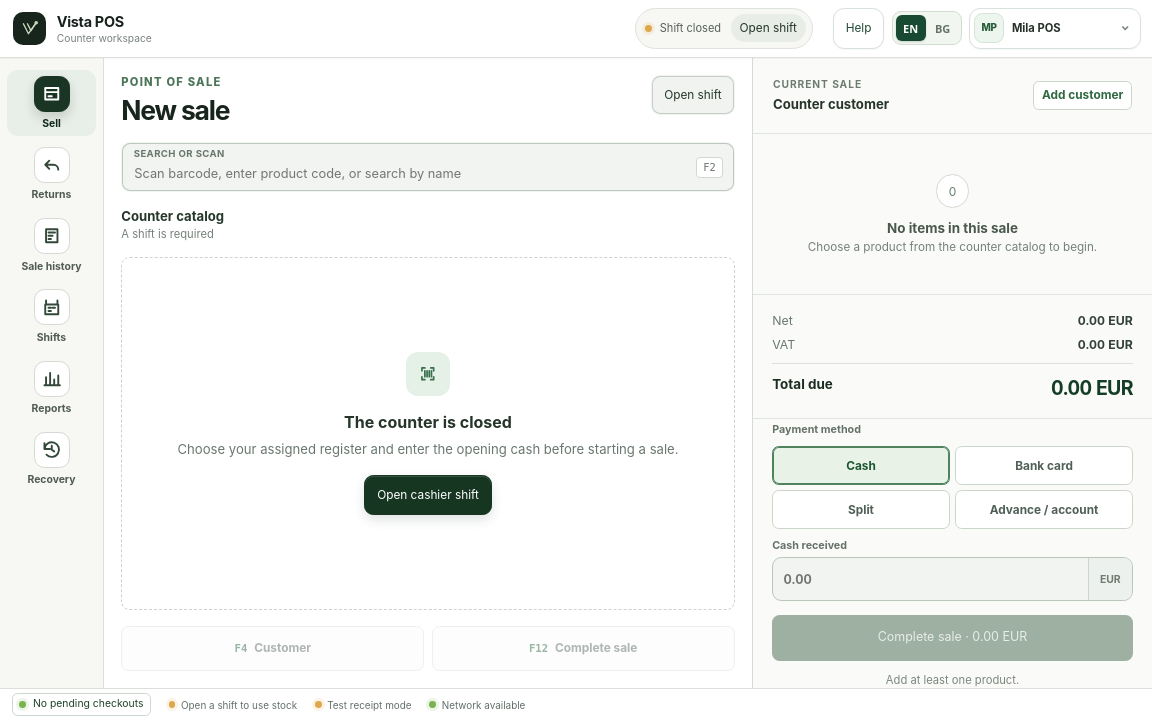
Test case: POS application › restores a saved report tab, period, columns and format through POS navigation
Expected: the heading "New sale" is shown, [121, 94, 229, 126]
Step 1. Click the link "Reports" → click(52, 388), box [32, 360, 71, 415]
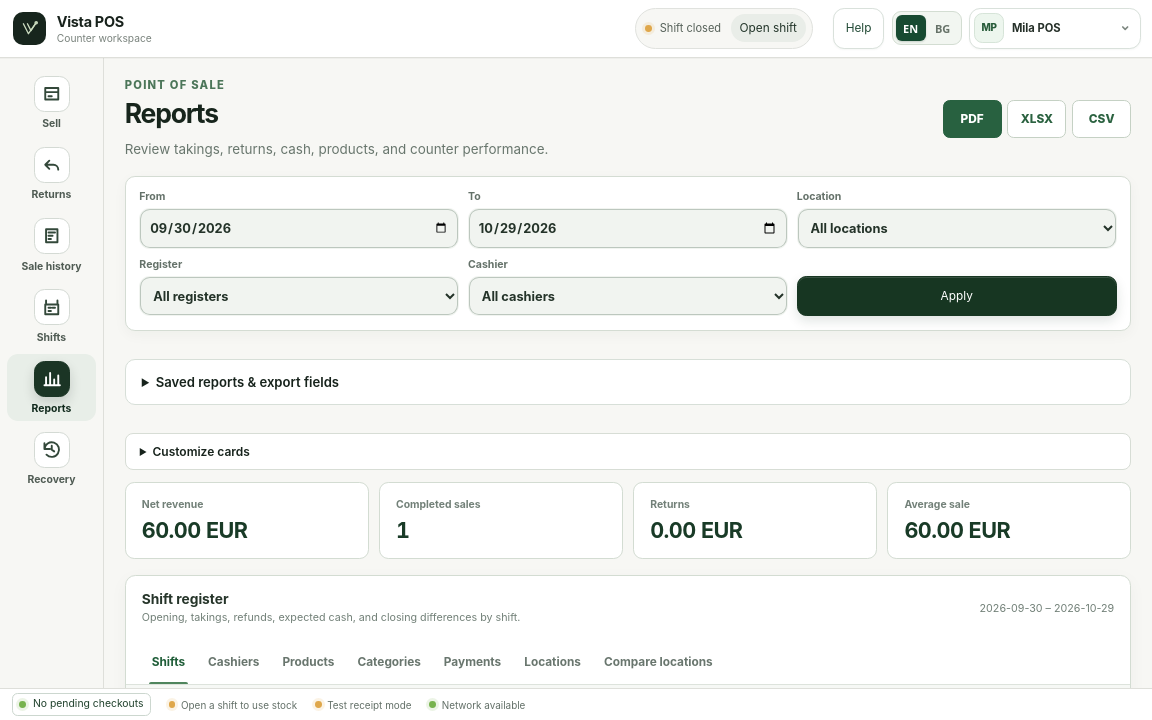
Step 2. Click the heading "Saved reports & export fields" → click(247, 382), box [156, 374, 339, 390]
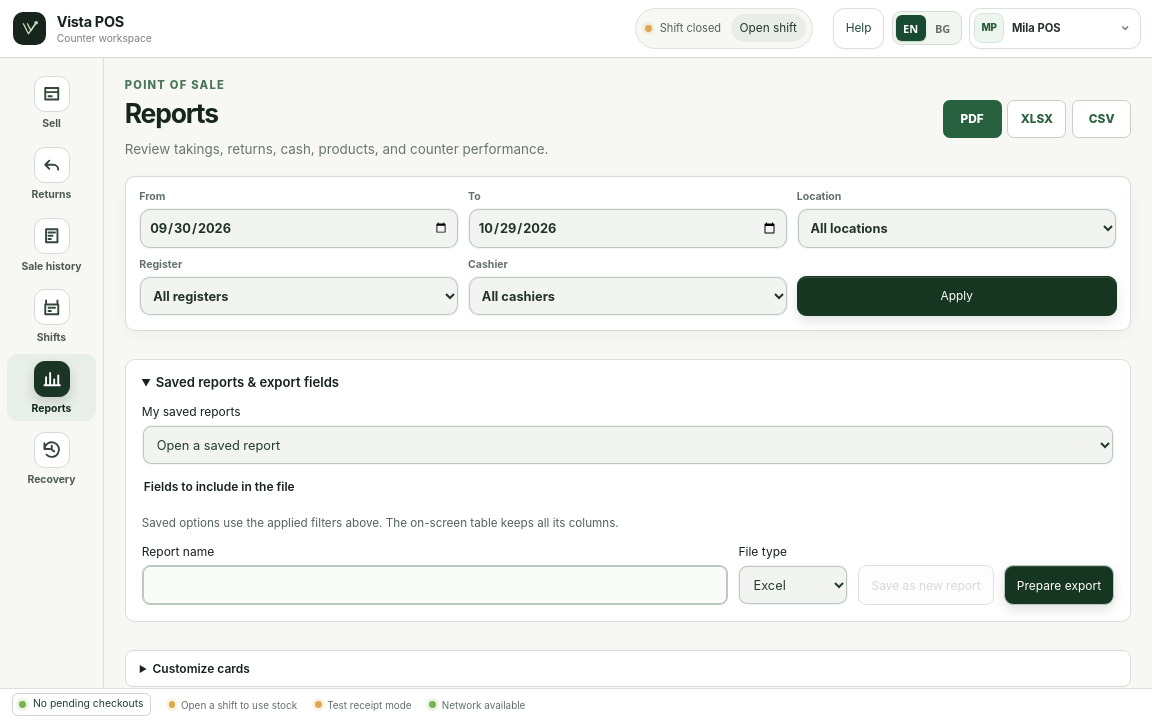
Step 3. Select "Location review 2026" in the dropdown labelled "My saved reports" → (628, 445), box [142, 425, 1114, 465]
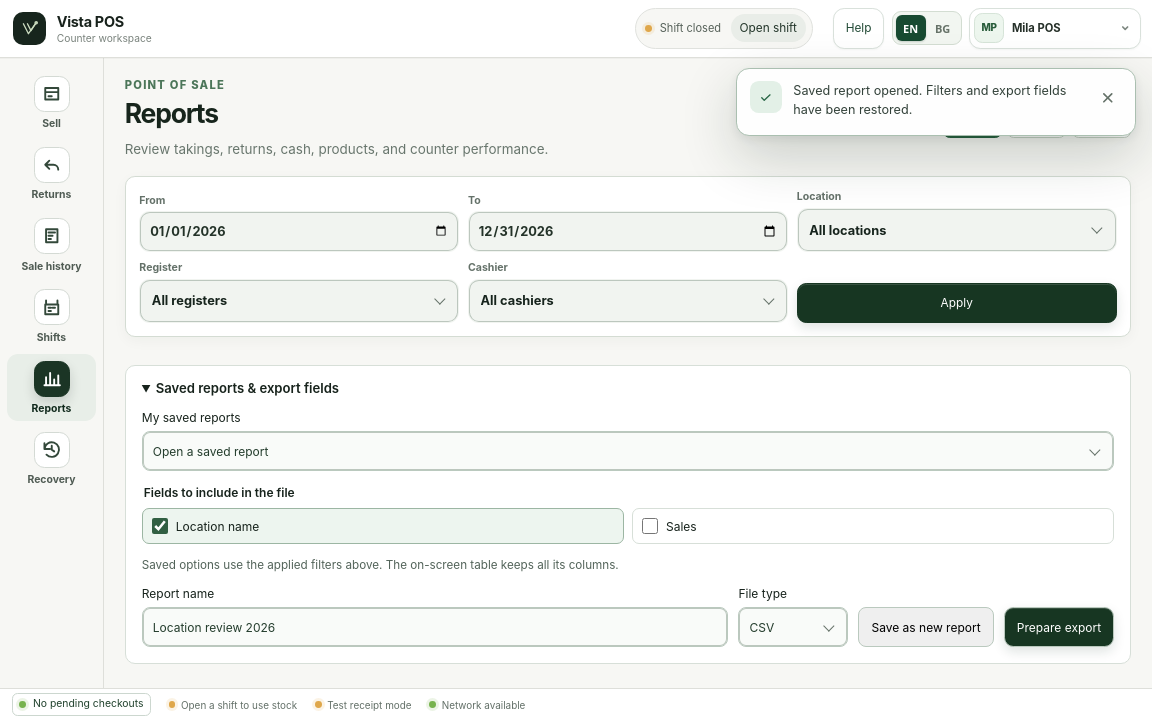
Result: the label labelled "File type" holds "csv" at [738, 586, 848, 647]
Result: the date field labelled "From" holds "2026-01-01" at [139, 212, 459, 252]
Result: the date field labelled "To" holds "2026-12-31" at [468, 212, 788, 252]
